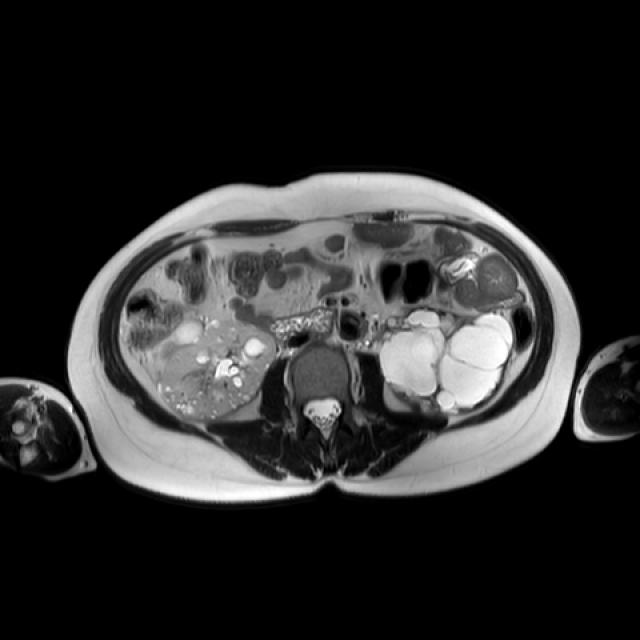sag: (159, 317, 276, 421)
sol: (378, 307, 513, 416)
